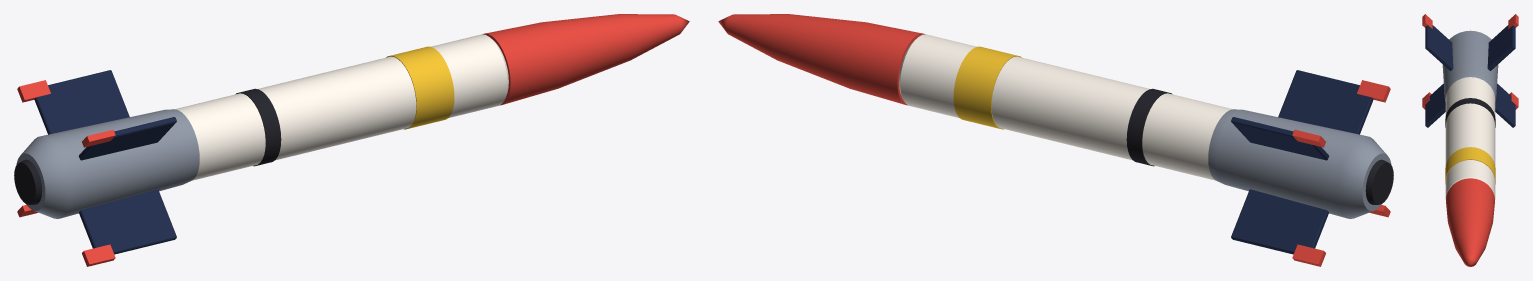
File: icbm.glb
3 views of the same model, side by side, from view 1: azimuth 30°, elevation 25°; view 2: azimuth 150°, elevation 25°; view 3: azimuth 270°, elevation 25° (orthographic). The views are drawn at different scales.
Parts seen in each view (by area): view 1: icbm; view 2: icbm; view 3: icbm.
Boxes of the visible parts, x1=… form: icbm: x1=14, y1=14, x2=689, y2=266; icbm: x1=718, y1=14, x2=1393, y2=266; icbm: x1=1422, y1=14, x2=1518, y2=266.
Bounding box in the file's own units: 35.3 × 6.65 × 6.65.
1 material, 1 textured.
